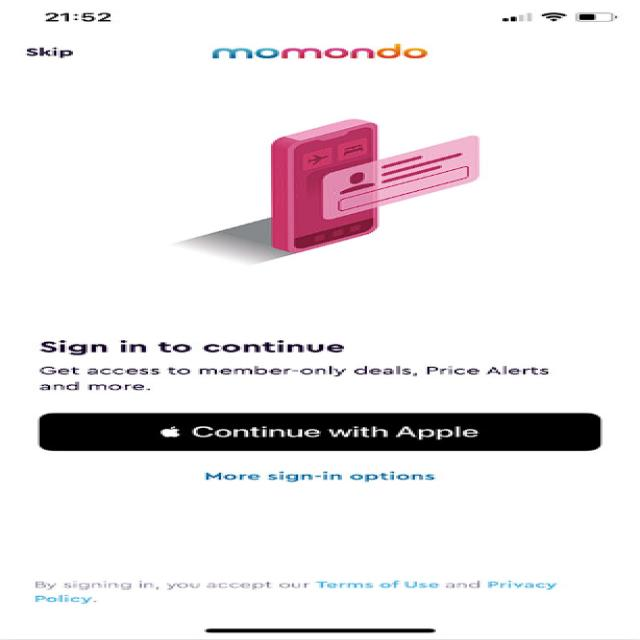button: (10, 403, 623, 459)
image: (6, 96, 618, 310)
spacer: (18, 497, 614, 561)
text: (3, 328, 630, 402), (18, 571, 594, 613), (197, 40, 464, 73), (182, 466, 476, 494), (13, 39, 92, 62)
